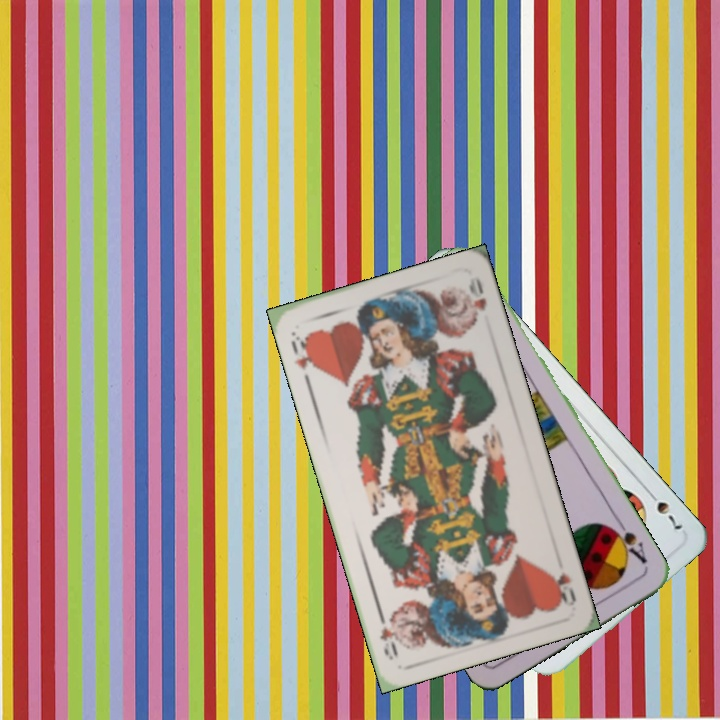HO: (286, 328, 320, 372), (547, 568, 579, 609)
S7: (642, 486, 685, 534)
SA: (605, 516, 650, 566)
